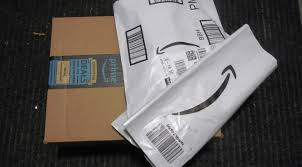package: (43, 14, 142, 148)
